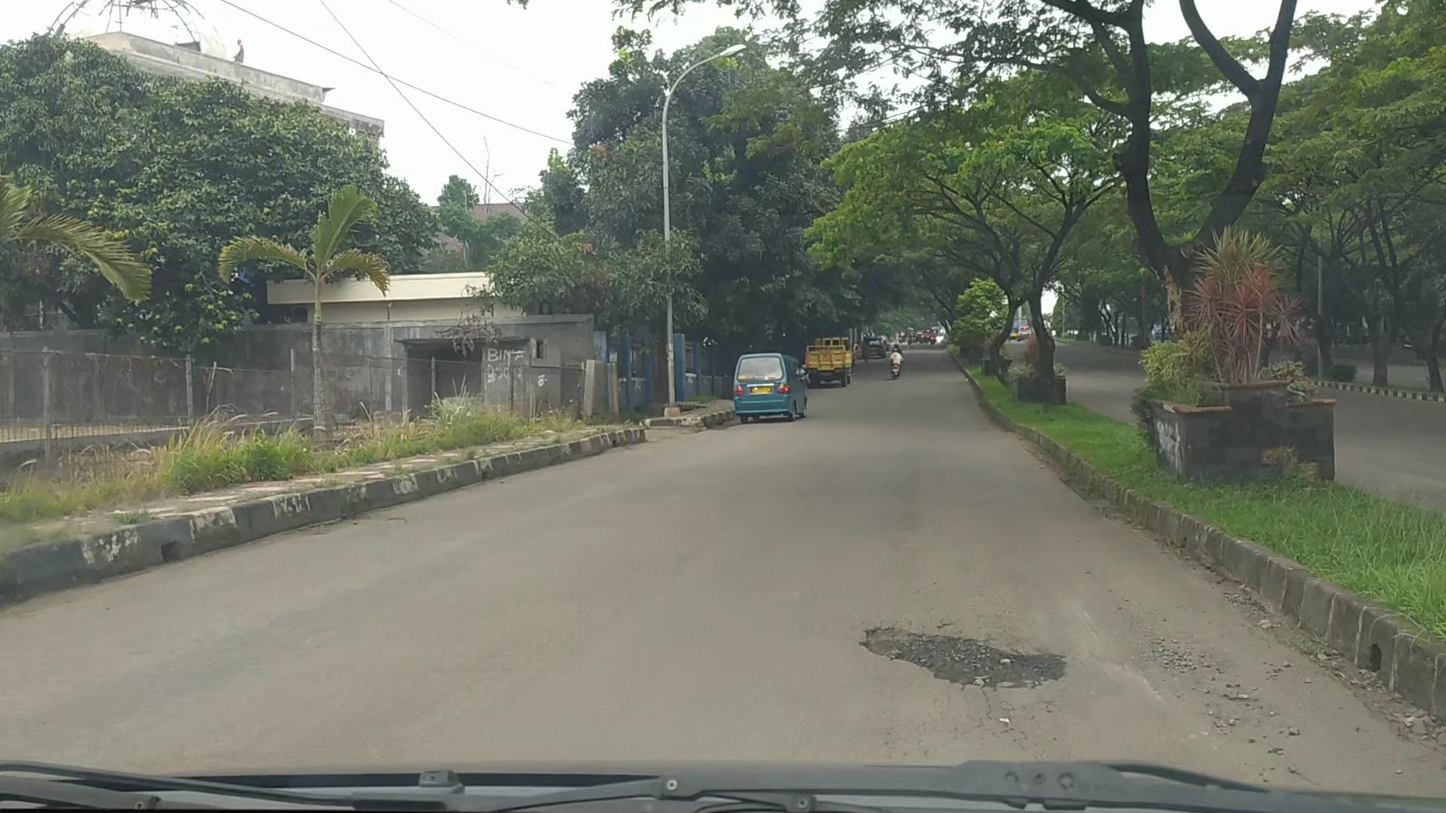pothole: (858, 623, 1071, 690)
